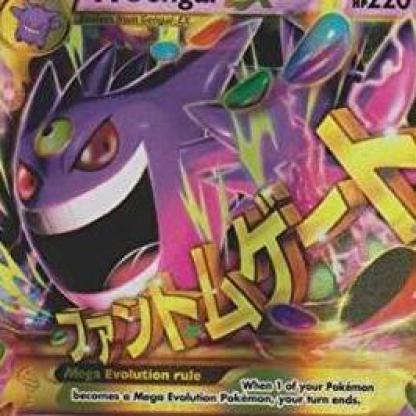Gengar: (5, 44, 232, 276)
